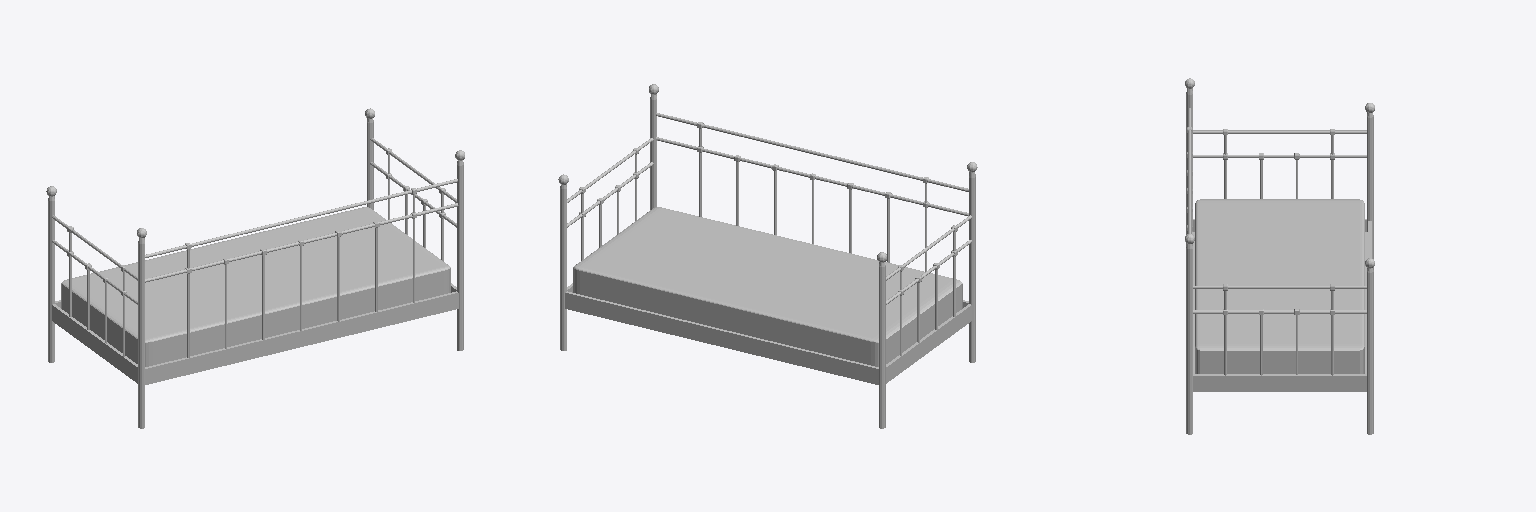
File: Bed.obj
The picture shows the model from 3 angles: view 1: azimuth 30°, elevation 25°; view 2: azimuth 150°, elevation 25°; view 3: azimuth 270°, elevation 25°; orthographic projection.
Bounding box in the file's own units: 2.12 × 1.23 × 1.07.